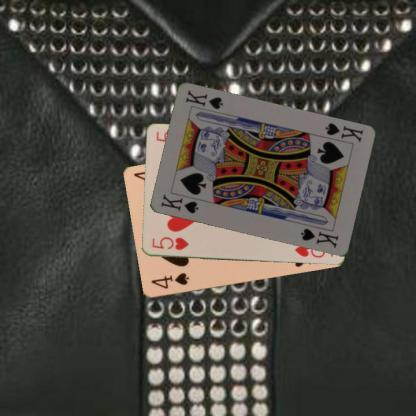4s: (148, 270, 190, 290)
5h: (149, 234, 190, 252)
Ks: (322, 120, 364, 144), (158, 192, 200, 215)
